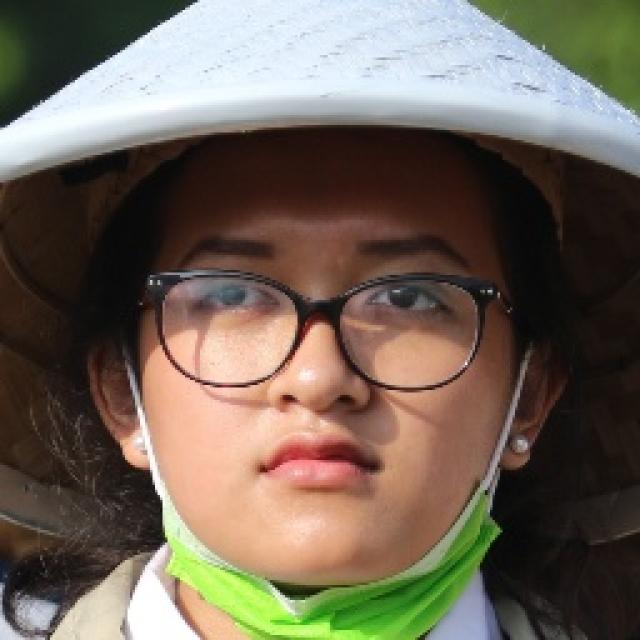earlobe: (500, 433, 540, 473), (118, 433, 157, 474)
eye: (363, 282, 447, 319), (196, 286, 277, 314)
nose: (270, 394, 368, 434)
wholeear: (499, 305, 572, 470), (88, 321, 150, 472)
